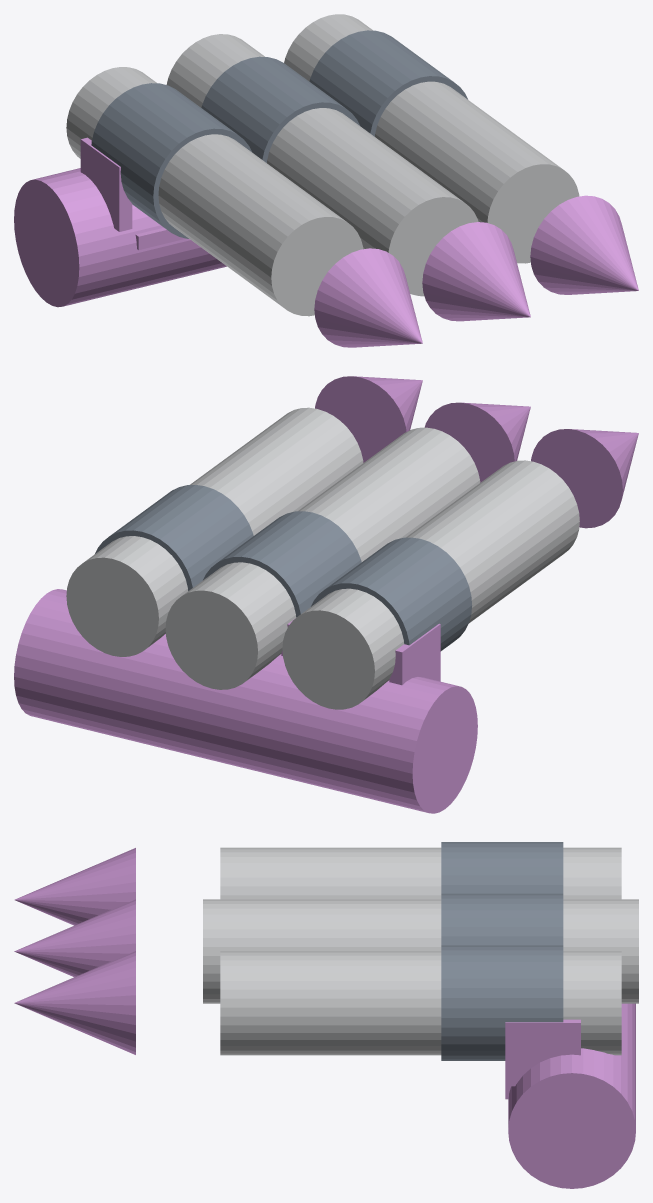
File: cmt-3.glb
3 renders of one model, top to bottom at view 1: azimuth 30°, elevation 25°; view 2: azimuth 150°, elevation 25°; view 3: azimuth 270°, elevation 25°, orthographic. The views are drawn at different scales.
Parts seen in each view (by area): view 1: part000, part007, part014, part021, part001, part009, part002, part016, part008, part015, part003, part004; view 2: part021, part000, part007, part014, part001, part008, part015, part002, part016, part009, part003; view 3: part014, part007, part021, part000, part015, part008, part016, part001, part002, part009, part019.
Part boxes in pixels (x1,y1,x2,y2): part000: (66,67,363,316); part007: (166,34,478,296); part014: (284,14,579,263); part021: (14,168,226,307); part001: (91,83,252,238); part009: (422,222,530,321); part002: (314,248,422,347); part016: (530,195,638,294); part008: (201,56,359,162); part015: (309,30,467,136); part003: (80,137,132,231); part004: (135,227,185,250); part021: (14,589,477,813); part000: (282,460,579,709); part007: (165,427,480,689); part014: (66,407,363,656); part001: (311,537,472,651); part008: (203,511,361,617); part015: (95,485,253,590); part002: (531,429,638,528); part016: (315,376,422,462); part009: (424,402,530,482); part003: (389,623,440,685); part014: (220,951,621,1055); part007: (203,899,638,1003); part021: (508,1003,635,1188); part000: (220,847,621,899); part015: (441,945,563,1060); part008: (441,893,563,945); part016: (14,951,135,1054); part001: (441,842,563,893); part002: (14,848,135,925); part009: (14,899,135,977); part019: (505,1019,580,1086).
Size of the model in its own units: 1.55 by 0.74 by 2.15.
